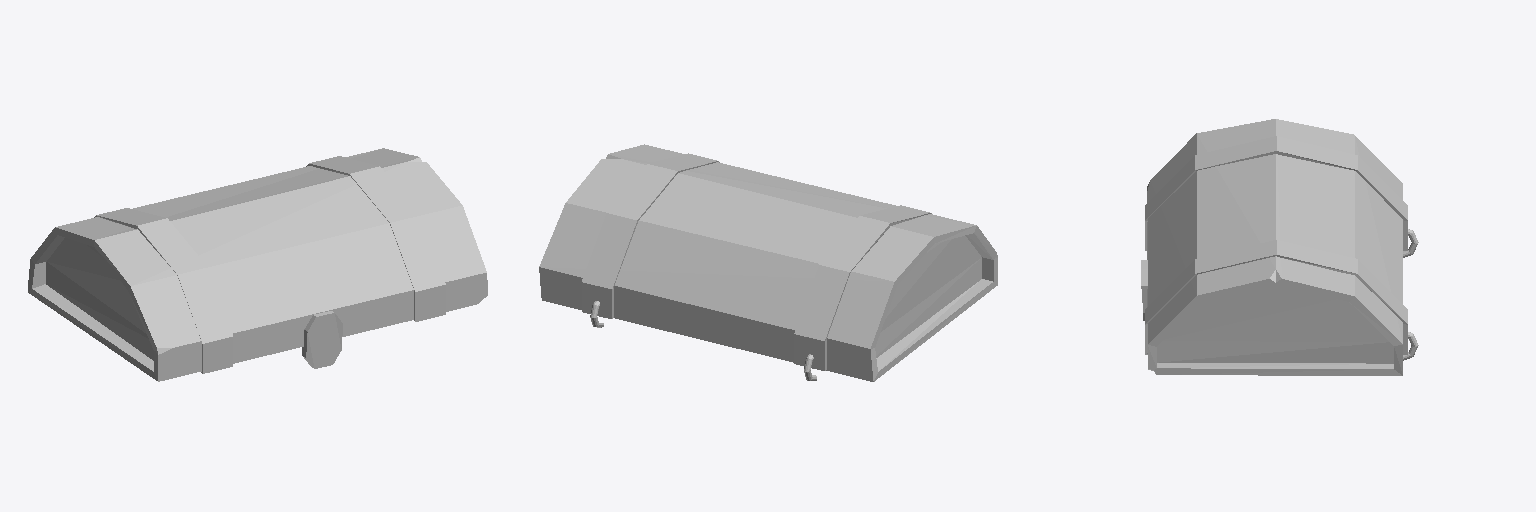
File: Tampa.obj
The picture shows the model from 3 angles: view 1: azimuth 30°, elevation 25°; view 2: azimuth 150°, elevation 25°; view 3: azimuth 270°, elevation 25°; orthographic projection.
Visible parts, largest first — view 1: chest_cover; view 2: chest_cover; view 3: chest_cover.
Boxes of the visible parts, <box> form: chest_cover: <box>28,148,487,381</box>; chest_cover: <box>539,144,997,381</box>; chest_cover: <box>1141,119,1418,375</box>.
Size of the model in its own units: 3.57 by 1.25 by 2.56.